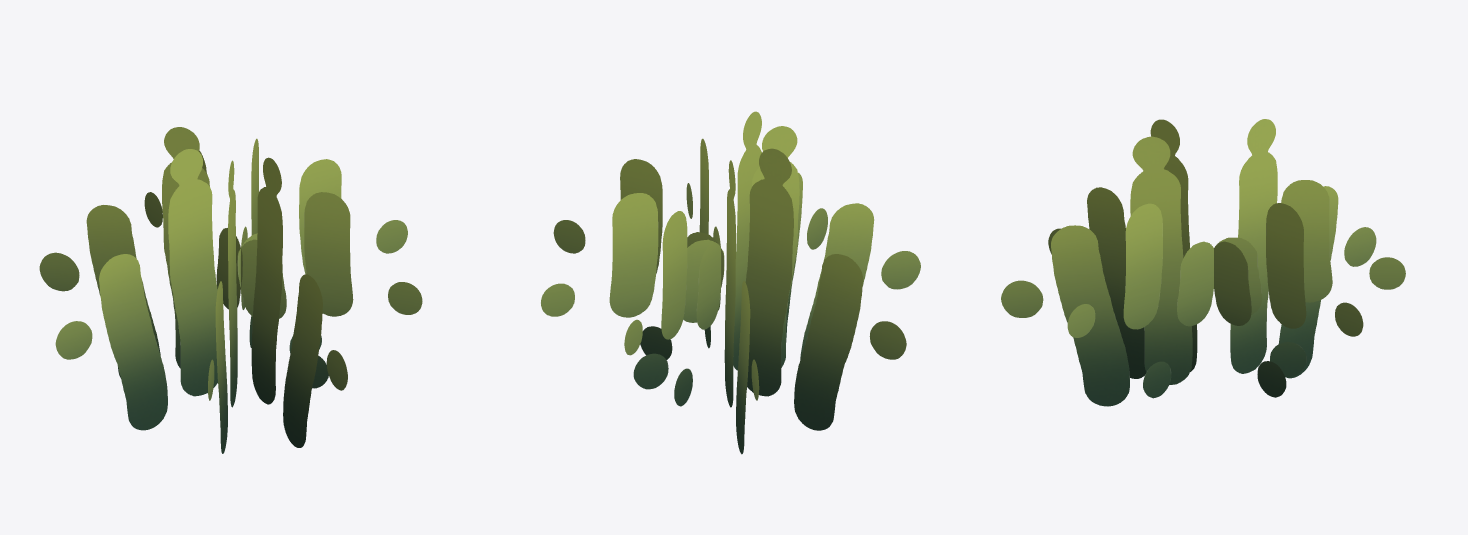
The model's file is Grass.fbx.
The picture shows the model from 3 angles, left to right: view 1: azimuth 30°, elevation 25°; view 2: azimuth 150°, elevation 25°; view 3: azimuth 270°, elevation 25°; orthographic projection.
Parts seen in each view (by area): view 1: Grass; view 2: Grass; view 3: Grass.
Boxes of the visible parts, left/top/right/bottom form: Grass: left=39, top=127, right=422, bottom=453; Grass: left=541, top=111, right=920, bottom=454; Grass: left=1001, top=119, right=1405, bottom=406.
Bounding box in the file's own units: 63.99 × 44.89 × 63.99.
